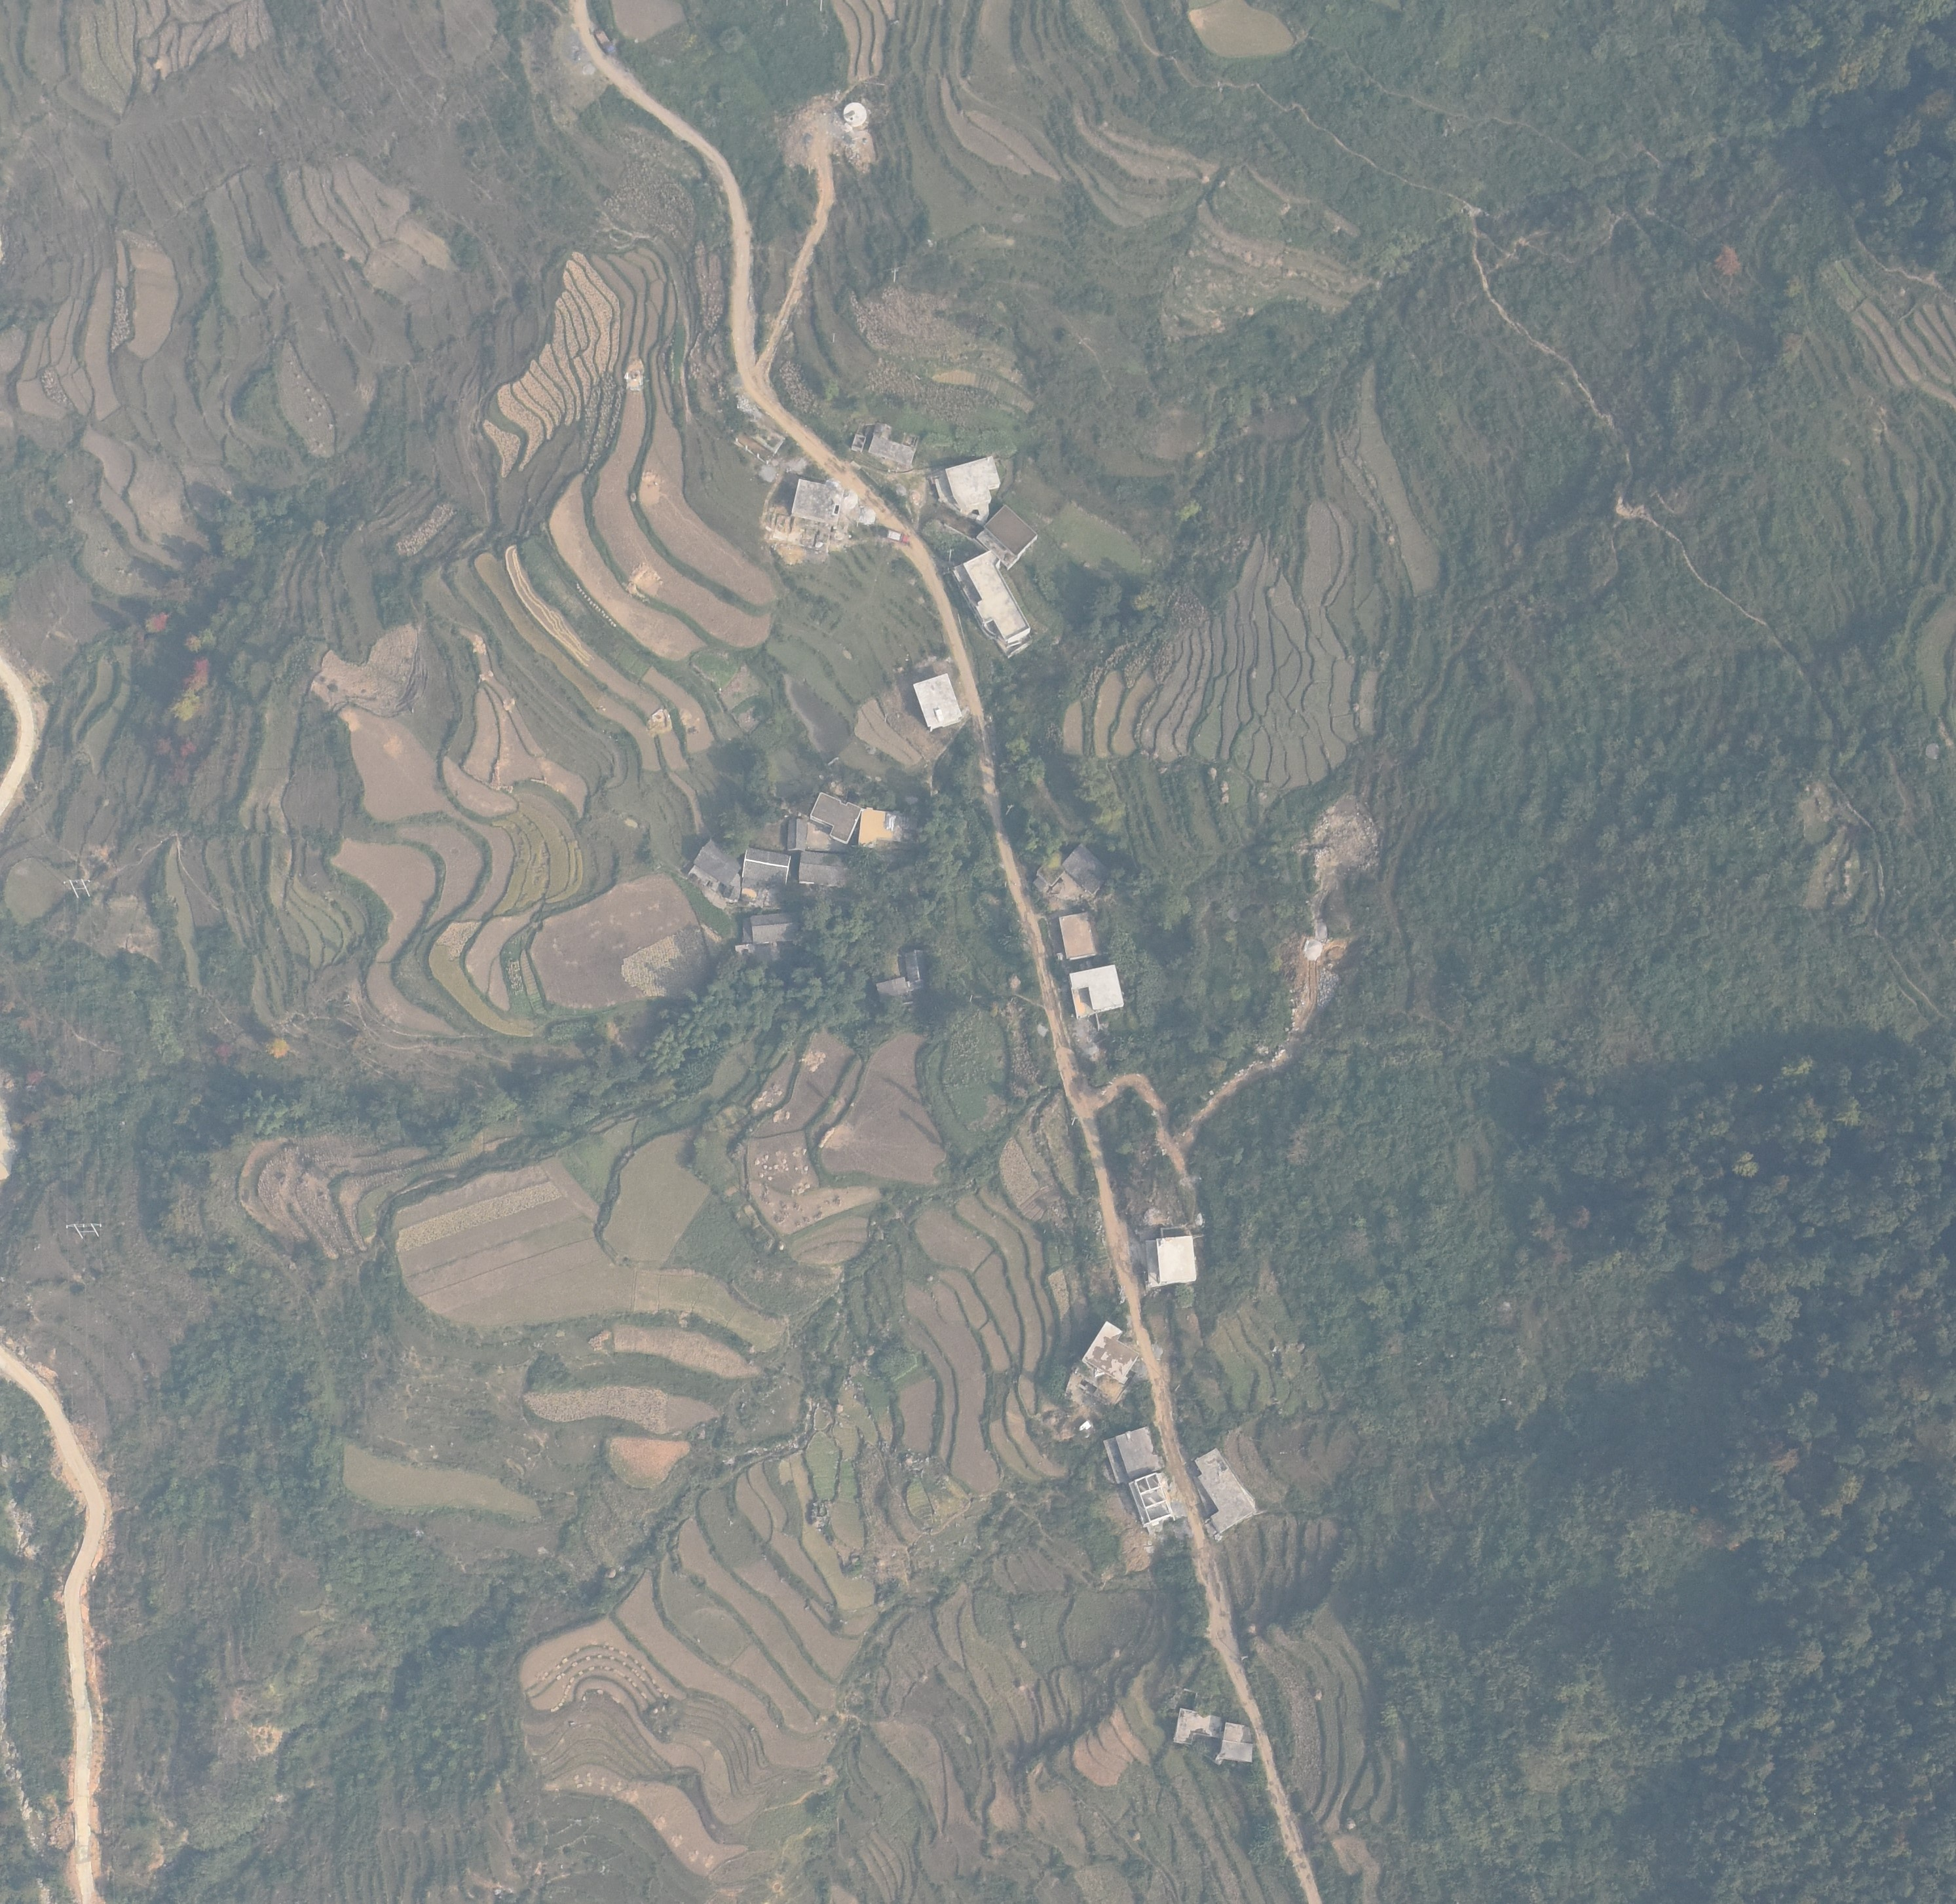building: (954, 550, 1032, 659), (1194, 1447, 1254, 1539), (933, 454, 1001, 525), (977, 504, 1037, 570), (1103, 1425, 1163, 1485), (1082, 1320, 1139, 1383), (688, 838, 742, 899), (1068, 962, 1125, 1018), (1144, 1225, 1195, 1286), (913, 672, 963, 730), (810, 793, 862, 845), (1061, 844, 1112, 894), (1129, 1472, 1173, 1527), (799, 850, 854, 889), (1058, 909, 1099, 960), (1173, 1708, 1224, 1745), (742, 847, 792, 884), (1218, 1721, 1254, 1764), (743, 914, 799, 941), (1036, 851, 1070, 888), (903, 950, 928, 982), (875, 977, 910, 997), (787, 818, 807, 851)
cable-tower: (60, 876, 96, 899), (66, 1222, 106, 1239), (946, 548, 952, 565), (1070, 1115, 1078, 1125)
vehicle: (852, 422, 922, 468), (791, 476, 846, 524), (734, 421, 785, 462), (887, 527, 909, 544), (888, 265, 898, 284), (831, 333, 835, 343)
well: (841, 98, 865, 122)
